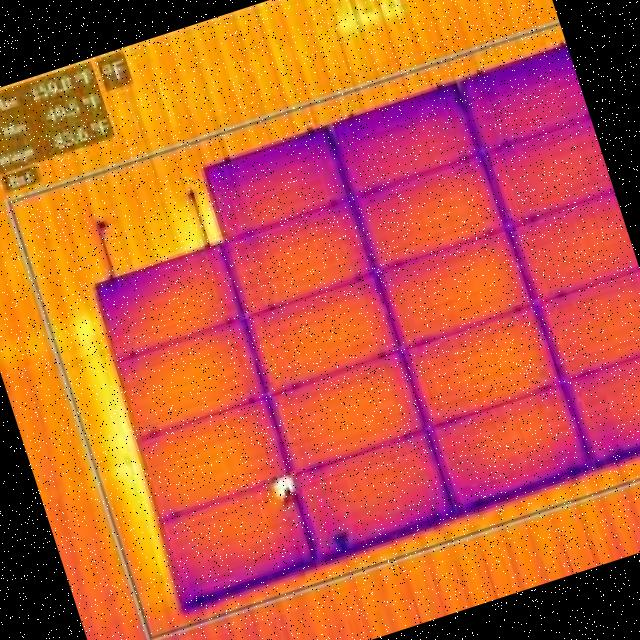Hotspot: (269, 474, 298, 504)
